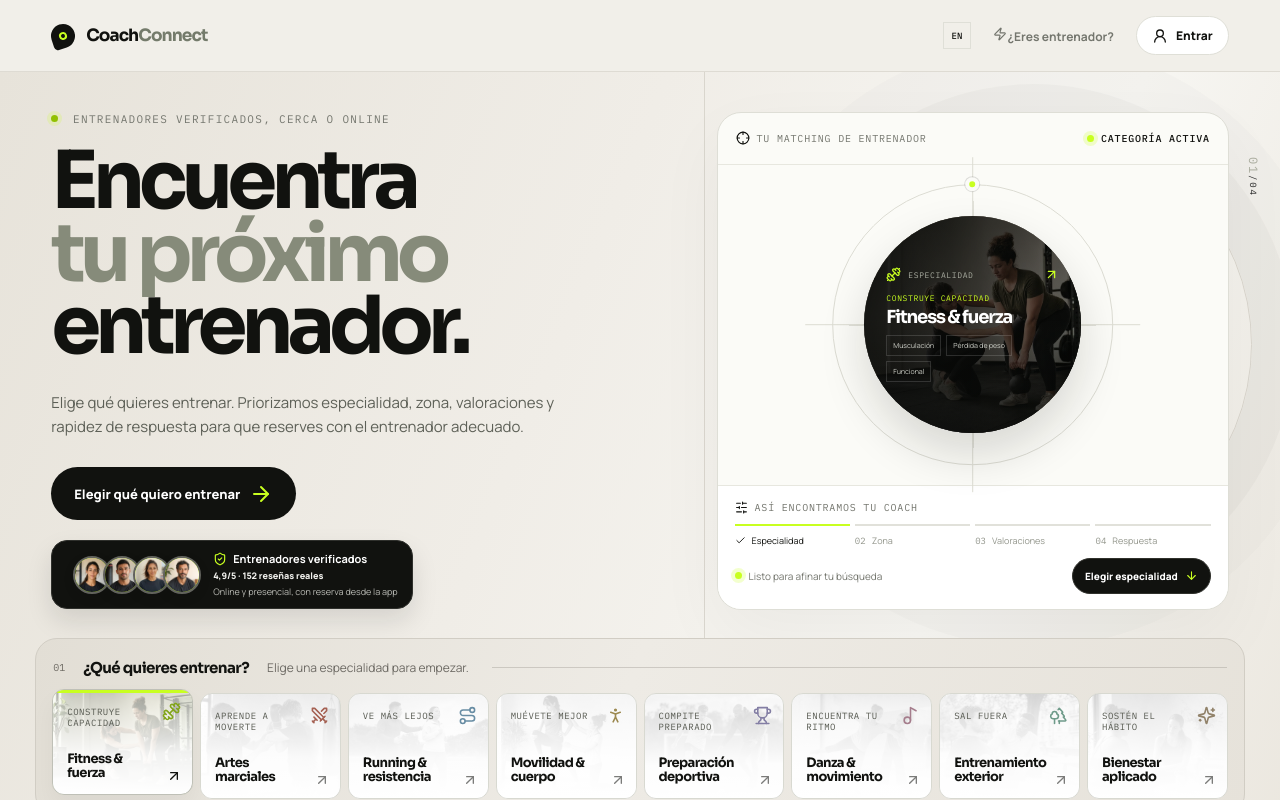
Test: CoachConnect › accepts a verified Spanish location instead of a fixed city list
Click the button "Aprende a moverte Artes marciales". click: {"x": 270, "y": 746}
box: top-left (200, 693), bottom-right (341, 799)
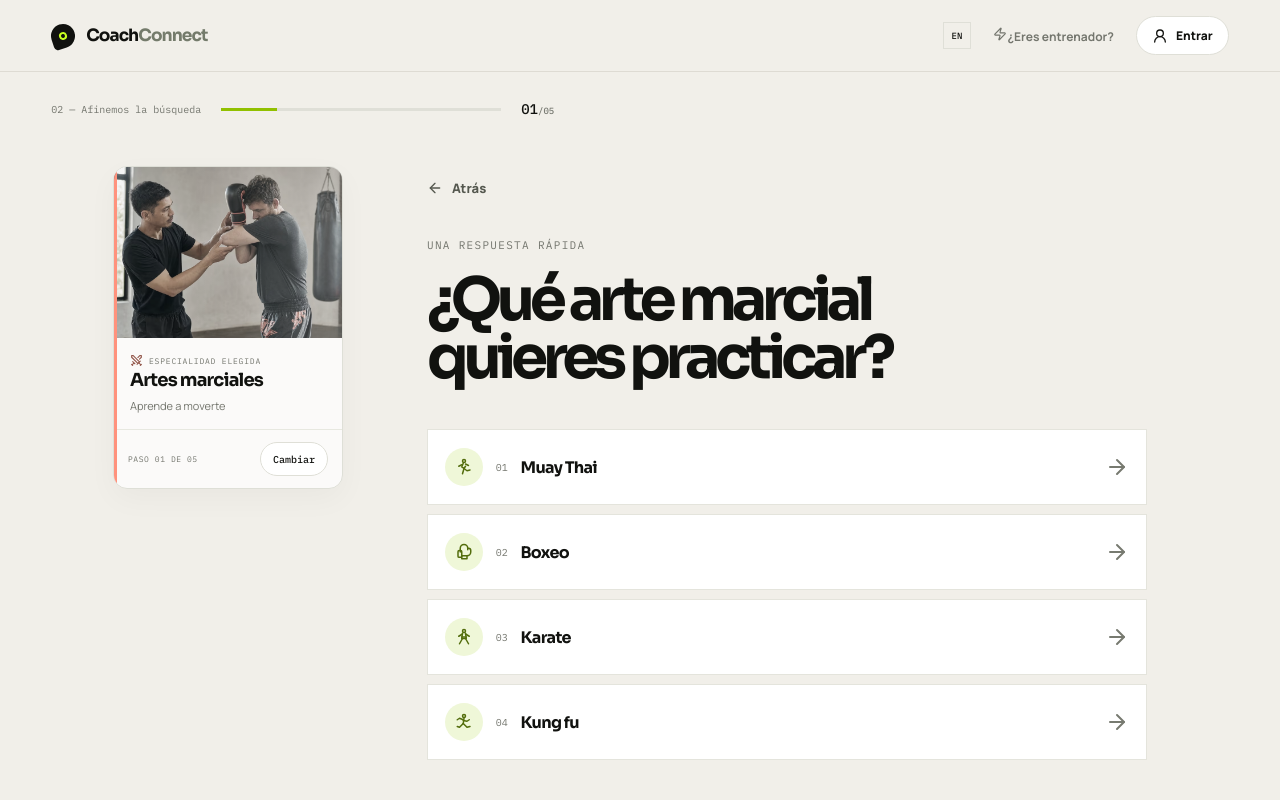
Click the button "01 Muay Thai". click: {"x": 464, "y": 467}
box: top-left (427, 430), bottom-right (1147, 506)
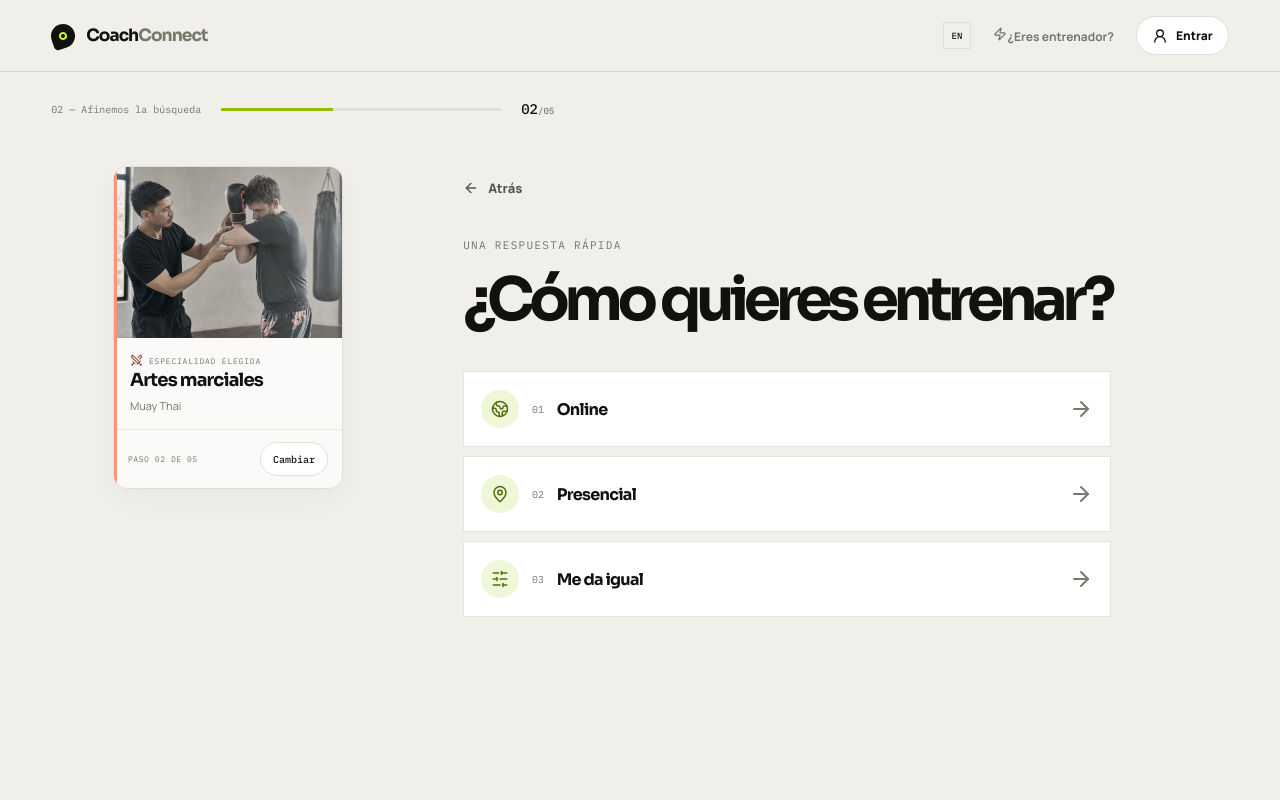
Click the button "02 Presencial". click: {"x": 500, "y": 494}
box: top-left (463, 456), bottom-right (1111, 532)
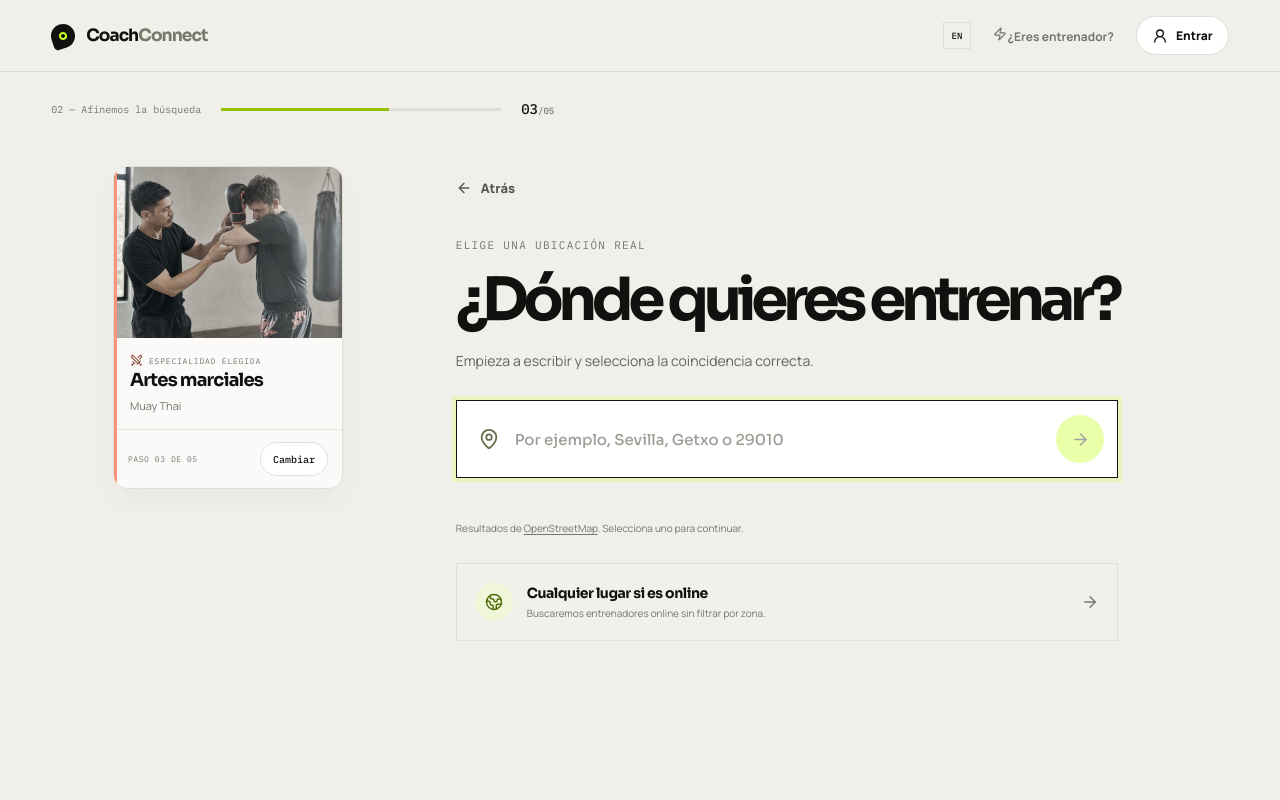
Type "Granada" into the dropdown named "ciudad, municipio, barrio o código postal". click: {"x": 778, "y": 439}
box: top-left (513, 412), bottom-right (1043, 466)
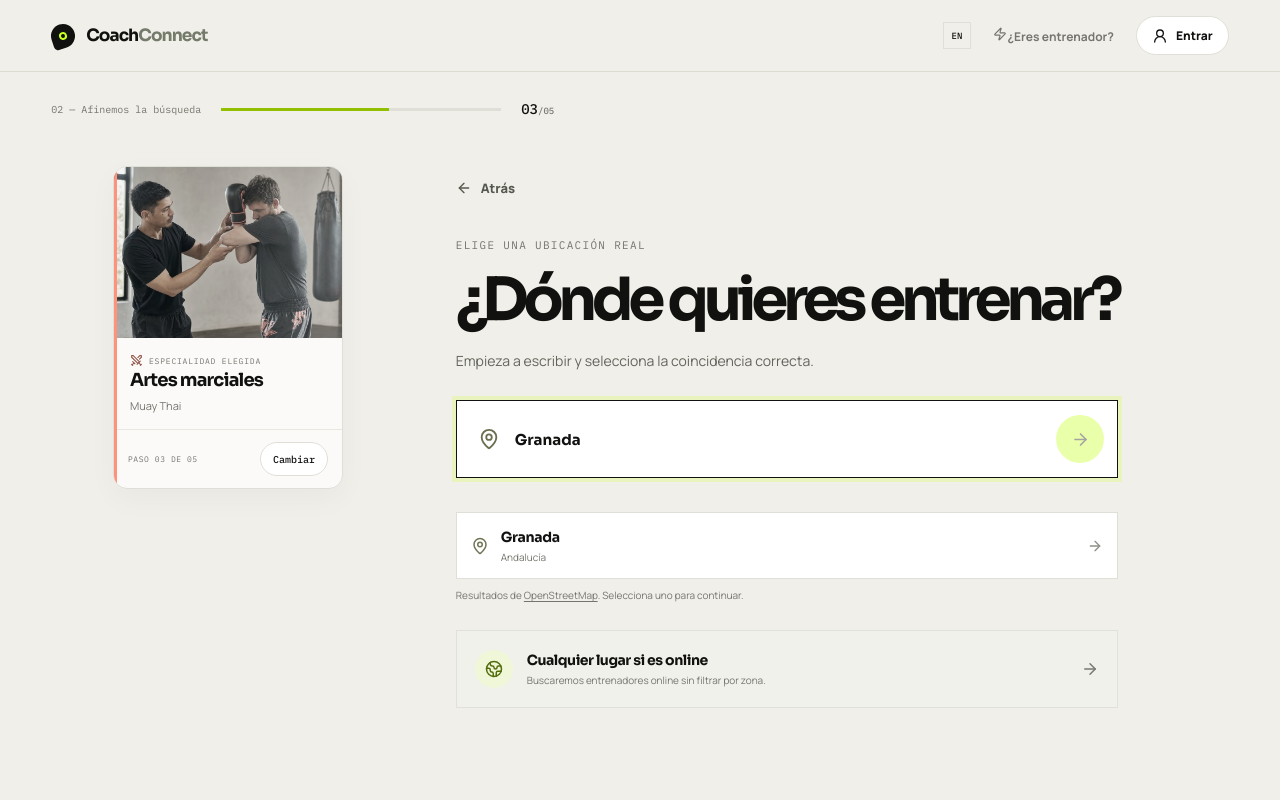
Click the option "Granada Andalucía". click: {"x": 530, "y": 537}
box: top-left (457, 513), bottom-right (1117, 579)
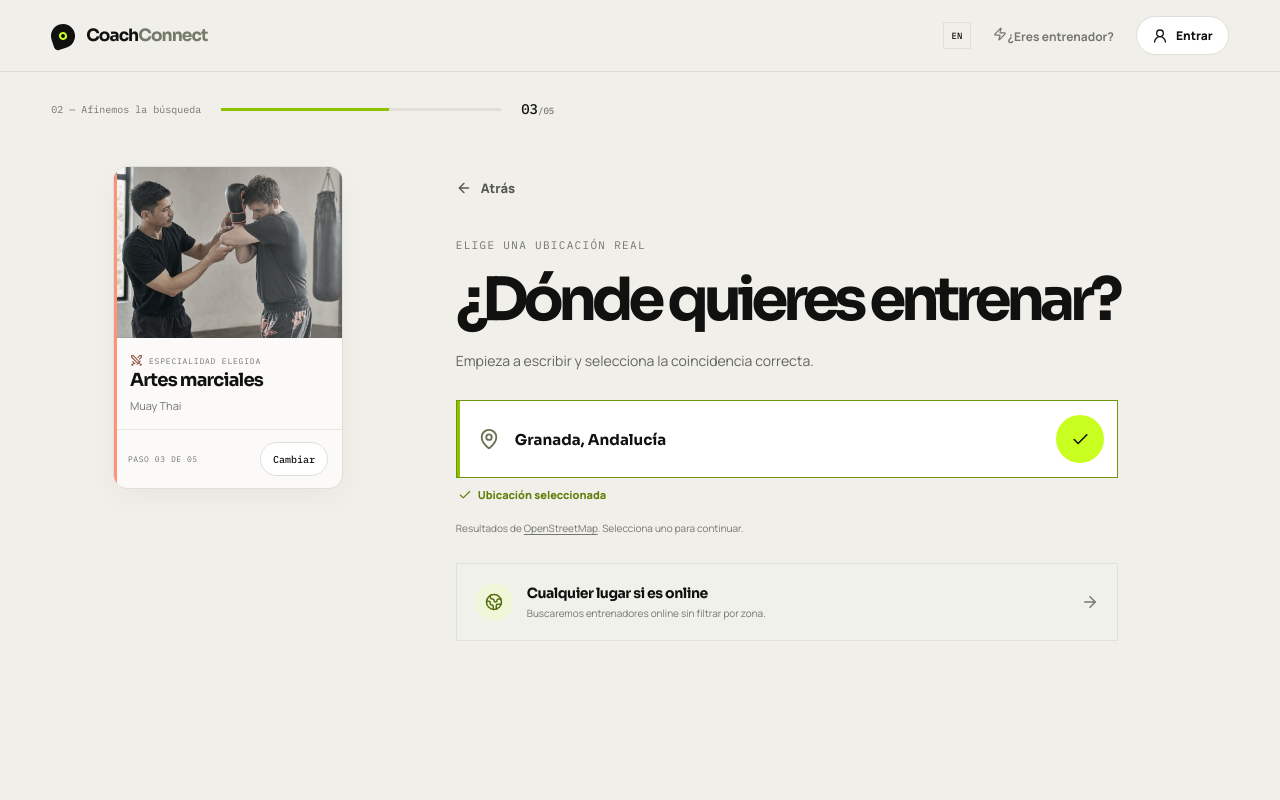
Click the button named "continuar con esta ubicación". click: {"x": 1080, "y": 439}
box: top-left (1056, 415), bottom-right (1104, 463)
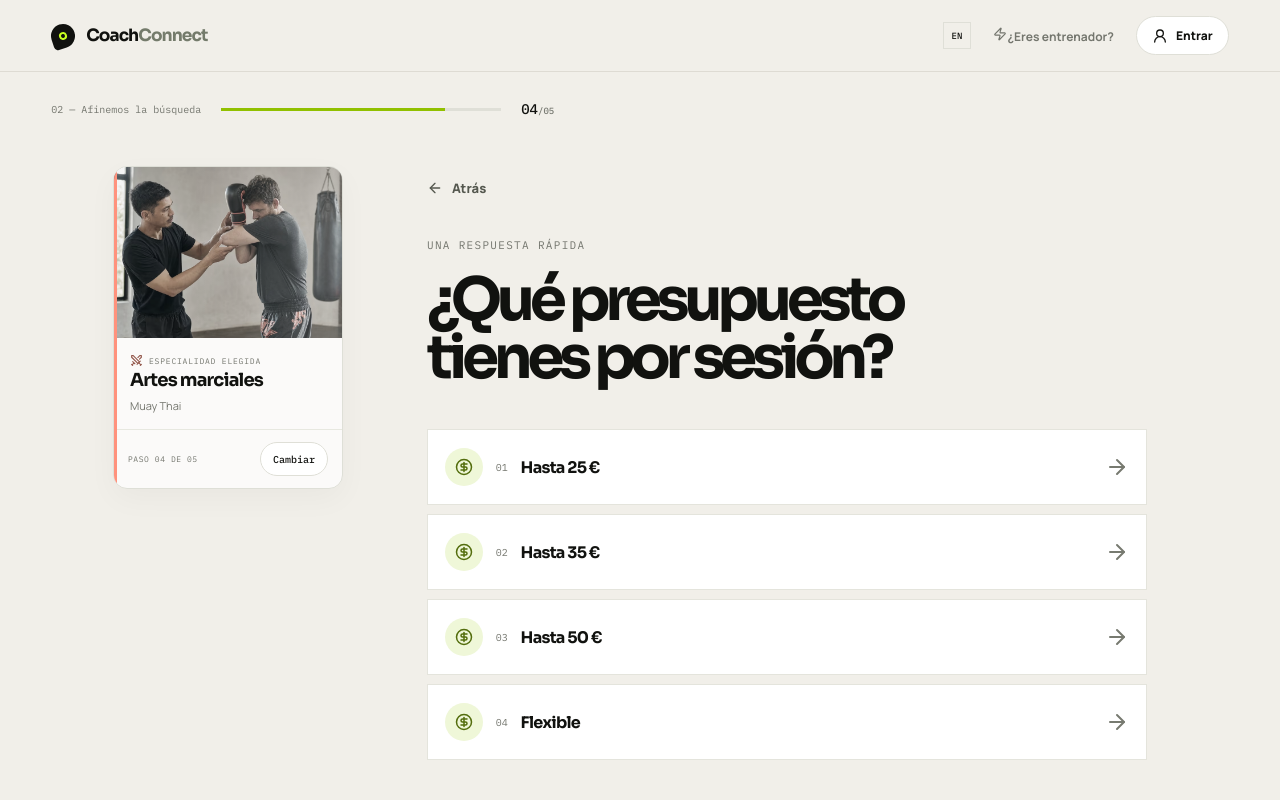
Check: the heading "¿Qué presupuesto tienes por sesión?" is shown, box top-left (427, 262), bottom-right (902, 395)
